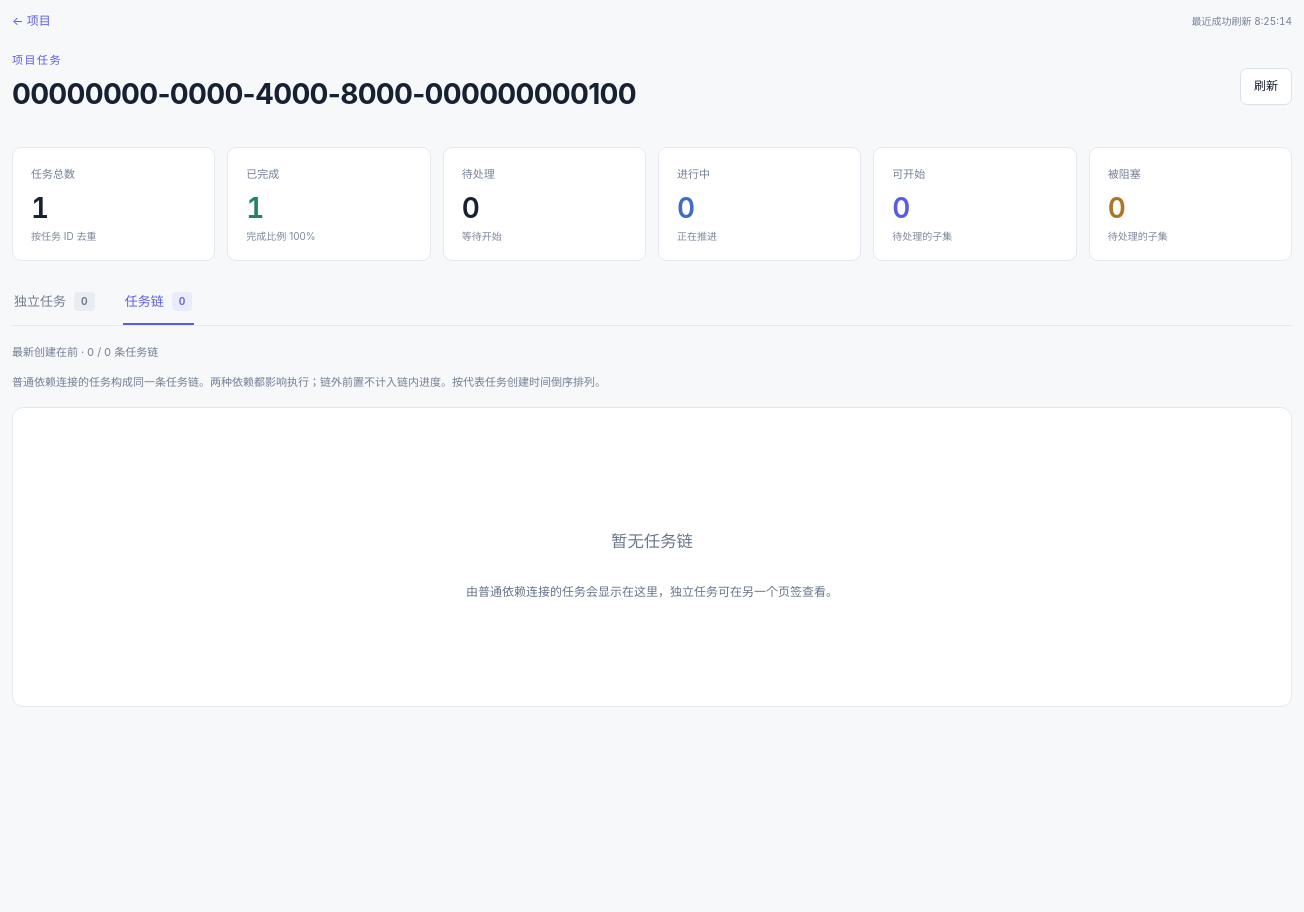
Scenario: project task views › distinguishes absent categories, hidden completed rows and an entirely empty project
Check: the heading "暂无任务链" is shown, box 611,529 -> 693,554
Step 1. Click the tab "独立任务 0" → {"x": 54, "y": 308}, box 12,291 -> 97,325
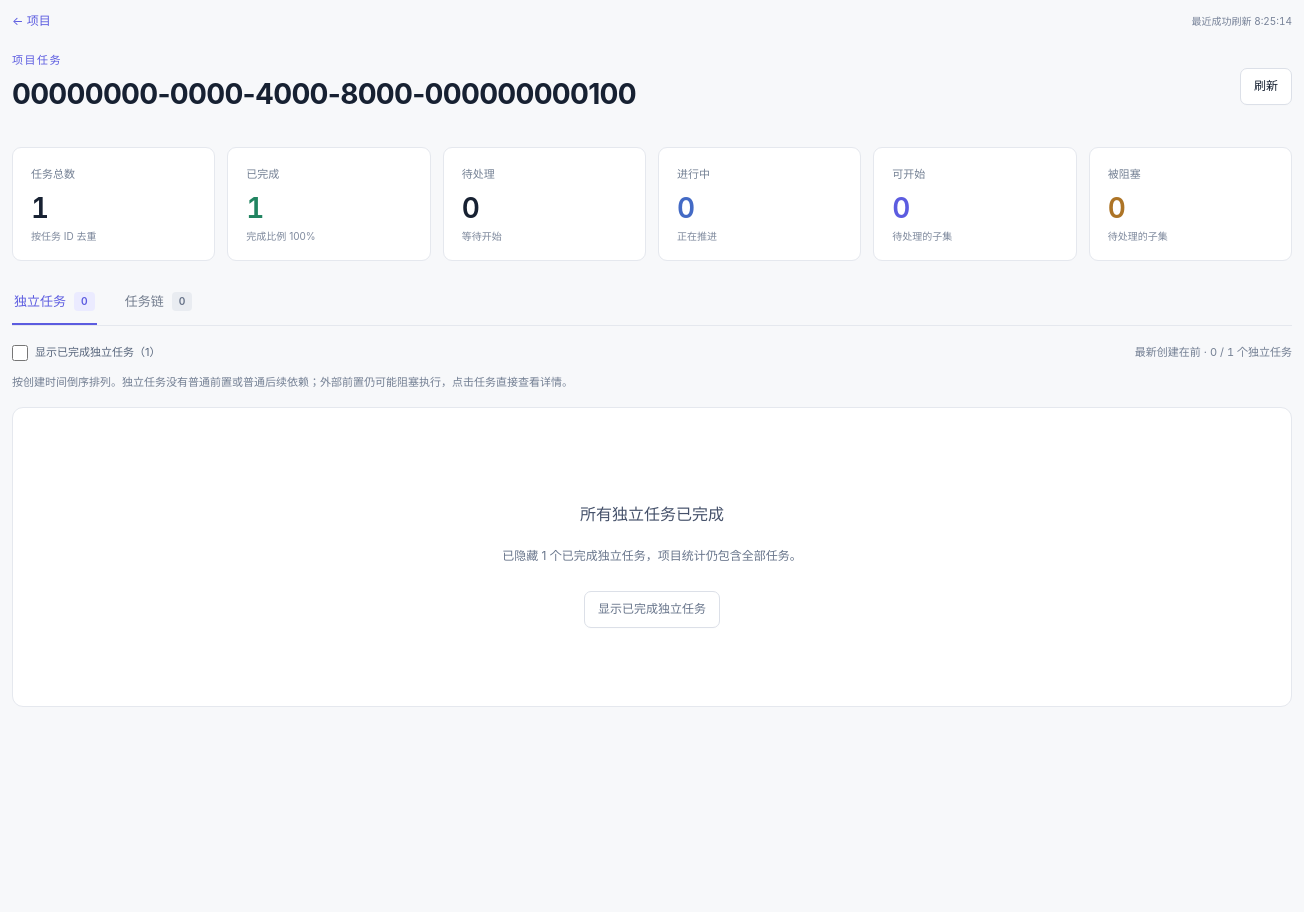
Check: the heading "所有独立任务已完成" is shown, box 580,502 -> 724,527
Step 2. Click the button "显示已完成独立任务" → {"x": 652, "y": 610}, box 584,591 -> 720,628
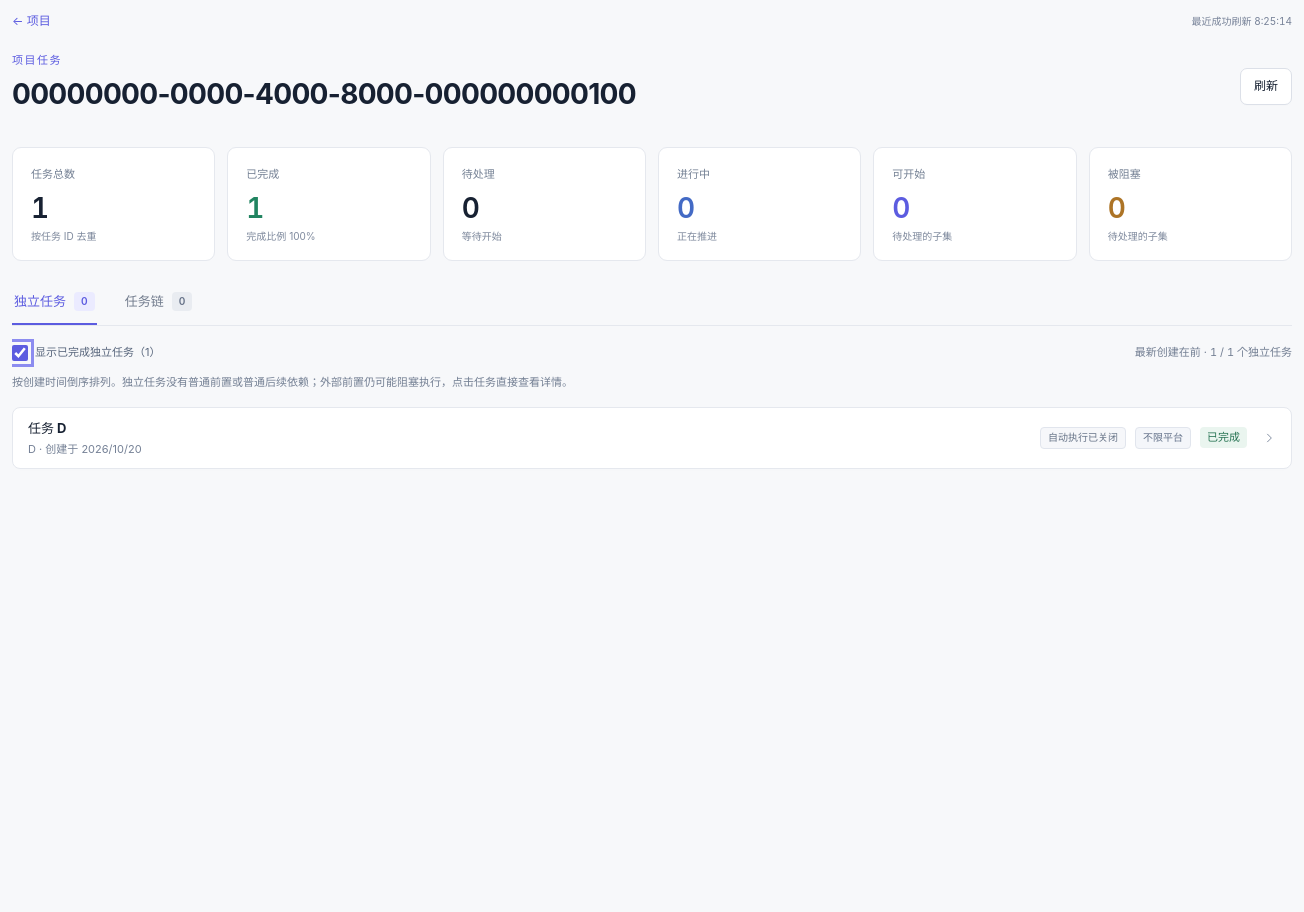
Step 3. Click the button "刷新" → {"x": 1266, "y": 86}, box 1240,68 -> 1292,105
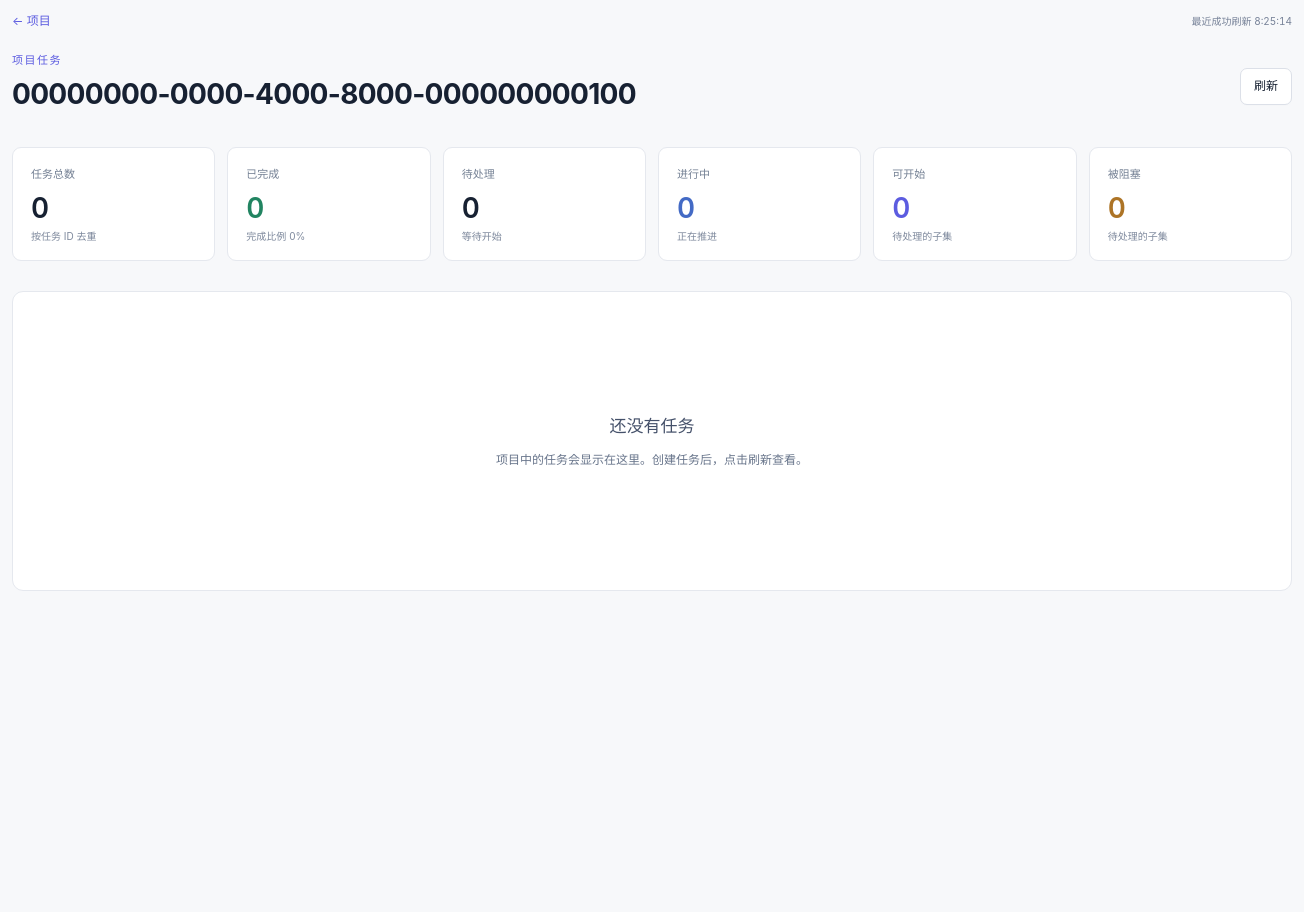
Check: the heading "还没有任务" is shown, box 610,412 -> 694,439
Check: the tab is gone
Check: the checkbox is gone
